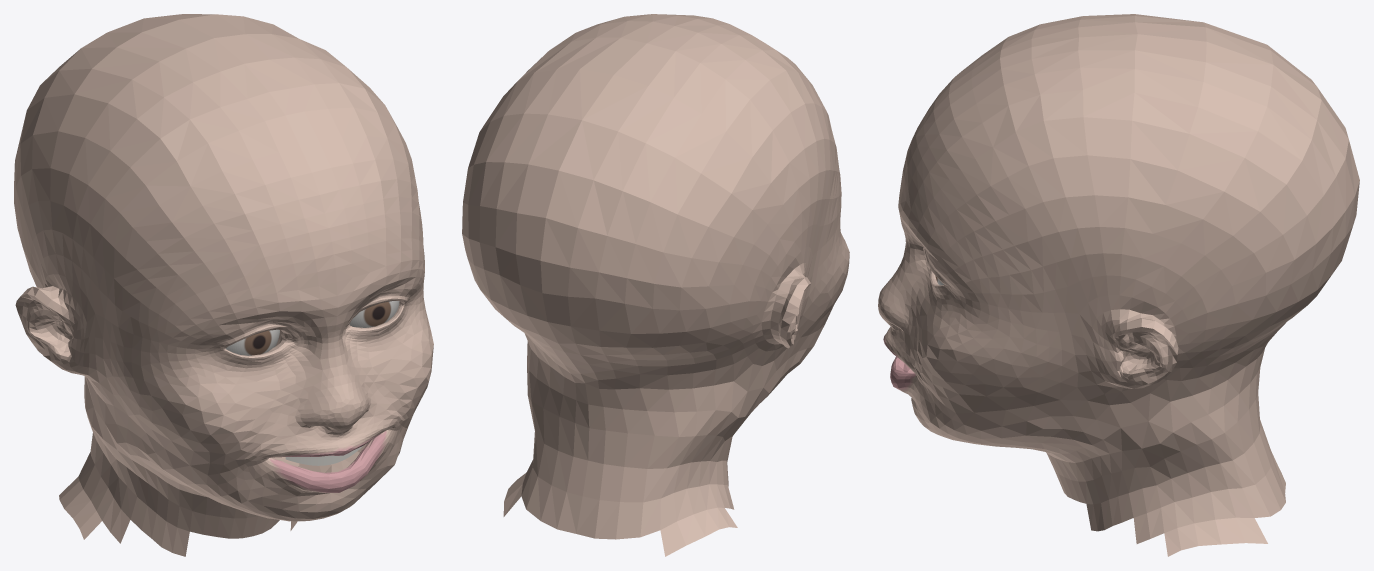
The model's file is karma_face_MH_smile_AG.glb.
3 renders of one model, left to right at view 1: azimuth 30°, elevation 25°; view 2: azimuth 150°, elevation 25°; view 3: azimuth 270°, elevation 25°, orthographic. The views are drawn at different scales.
Parts seen in each view (by area): view 1: head; view 2: head; view 3: head.
Part boxes in pixels (x1,y1,x2,y2): head: (14,14,433,556); head: (462,14,849,556); head: (878,14,1359,556).
Size of the model in its own units: 3.03 by 3.91 by 3.62.
